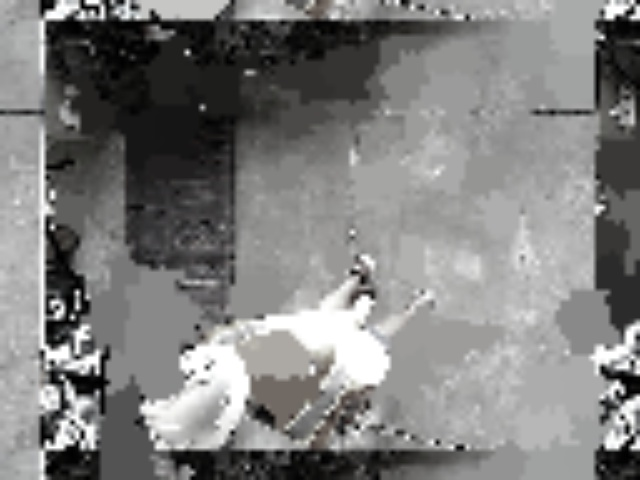two: (178, 352, 212, 381)
